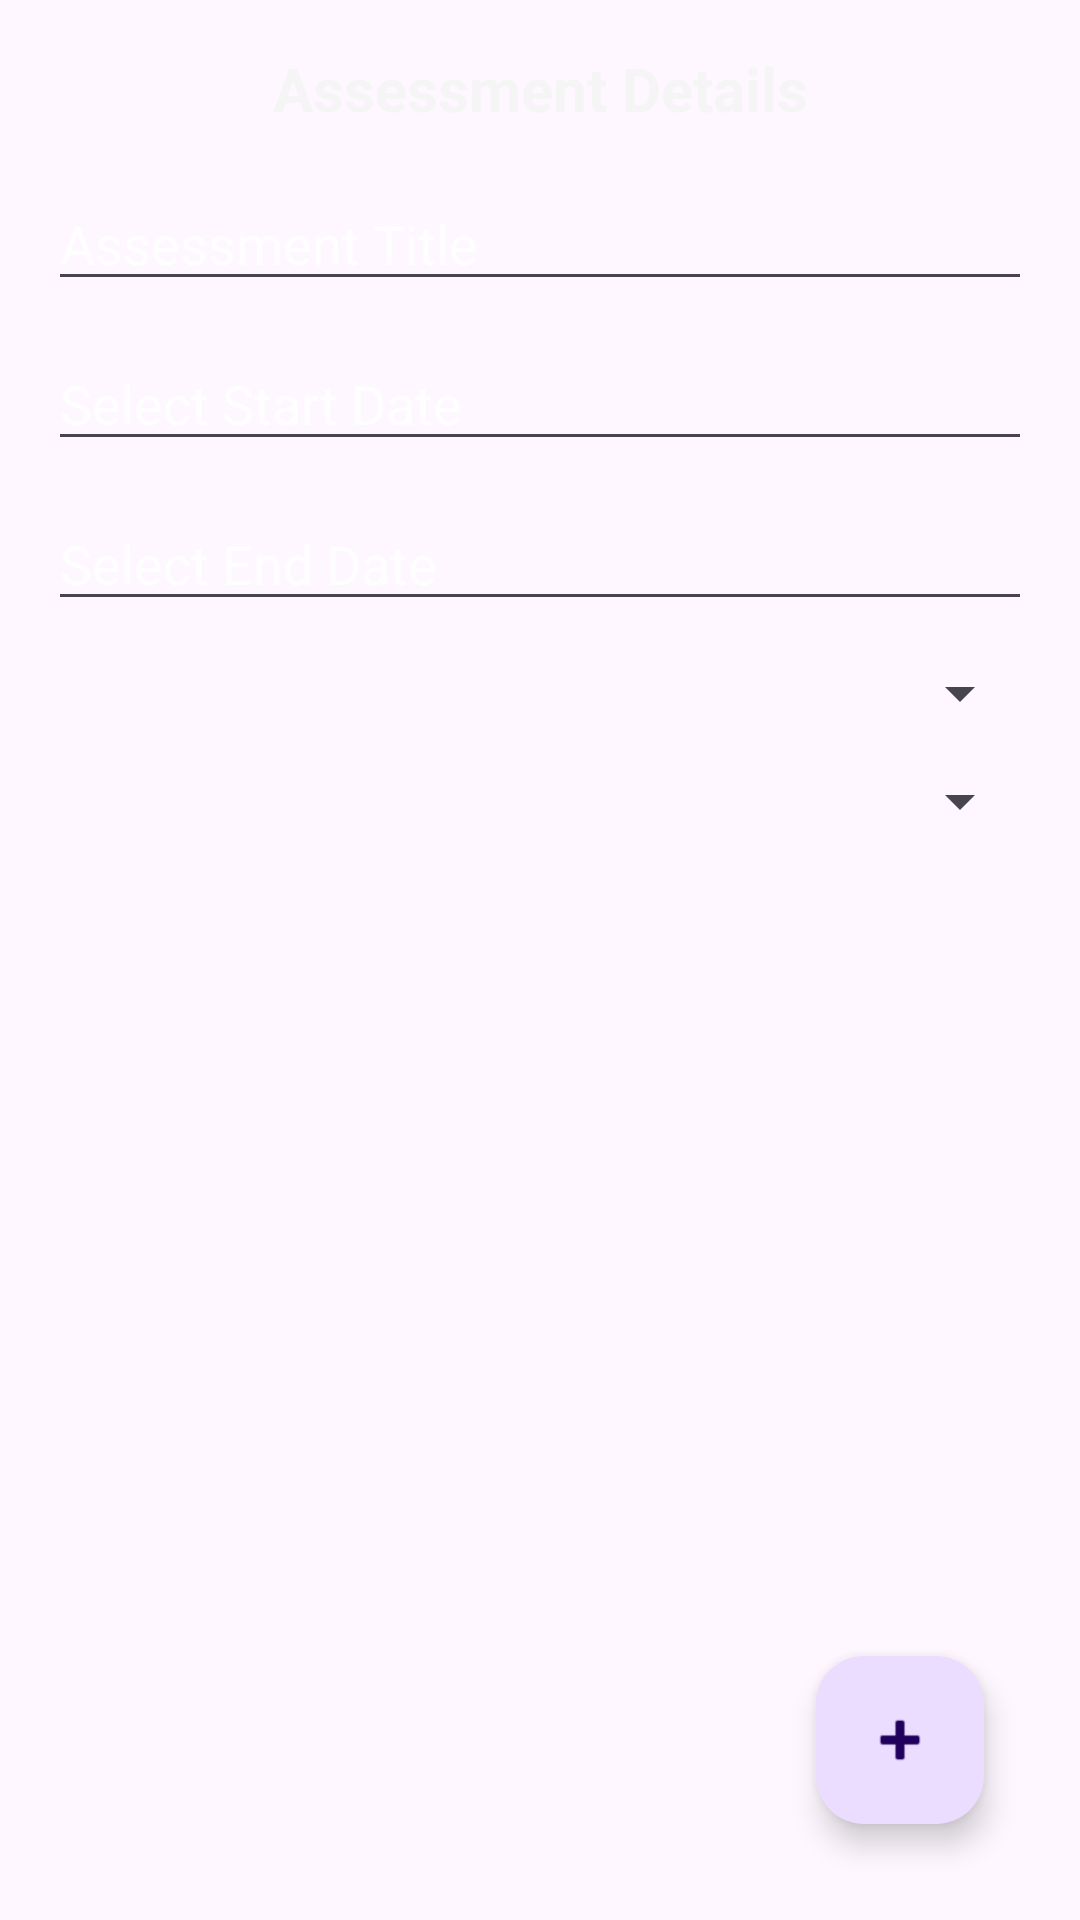

Icon bounding boxes for this 1080*1920 phone screenshot, format (x1, y1, x2, y2):
Add Assessment: (816, 1656, 984, 1824)
